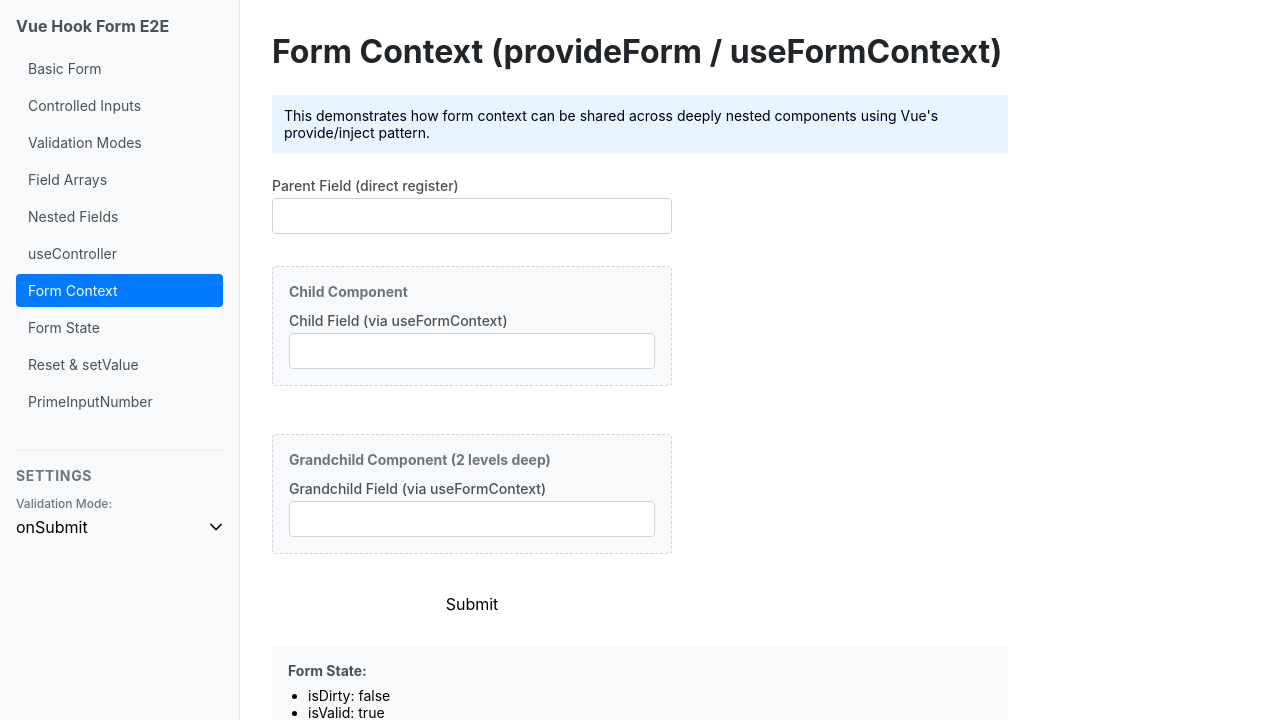
Test case: Form Context › should show validation errors for all nested component fields
This screenshot has width=1280, height=720.
Click the button with test id "submit-button" at x=472, y=604, box [272,594,672,614]
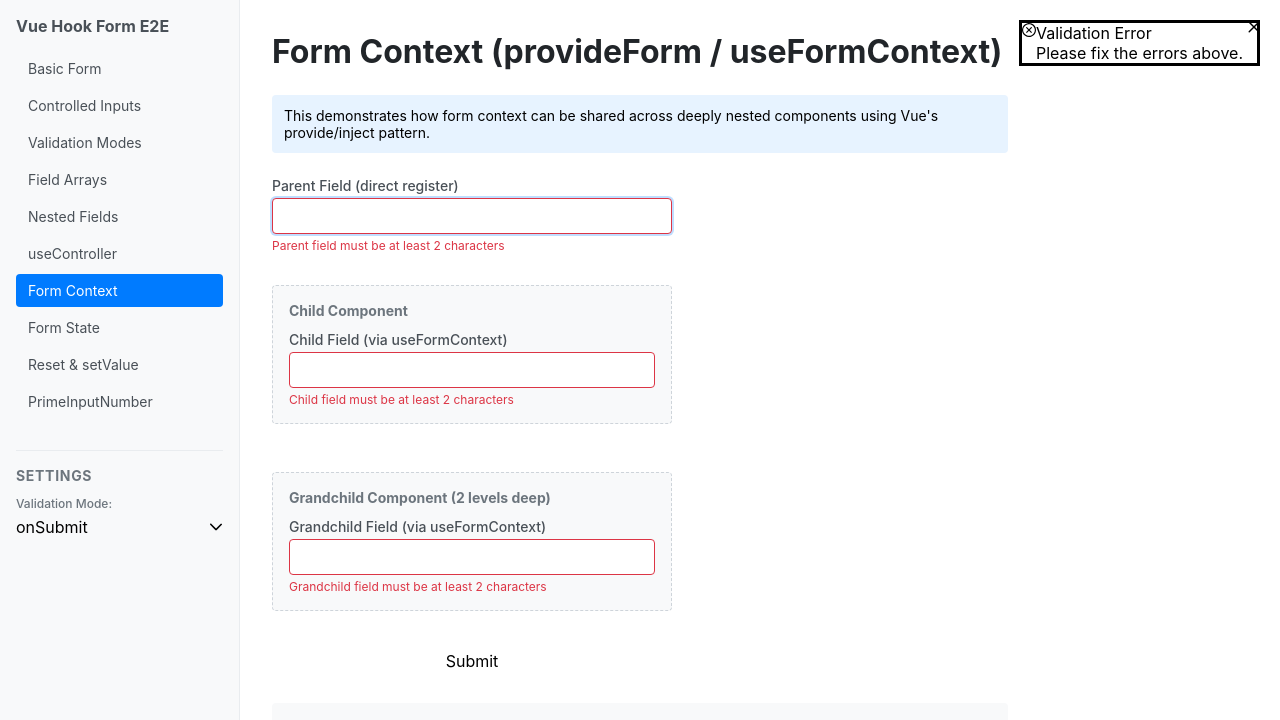
Expected: the text with test id "parent-field-error" reads "Parent field must be at least 2 characters", [272,238,505,253]
Expected: the text with test id "child-field-error" reads "Child field must be at least 2 characters", [289,392,514,407]
Expected: the text with test id "grandchild-field-error" reads "Grandchild field must be at least 2 characters", [289,579,547,594]
